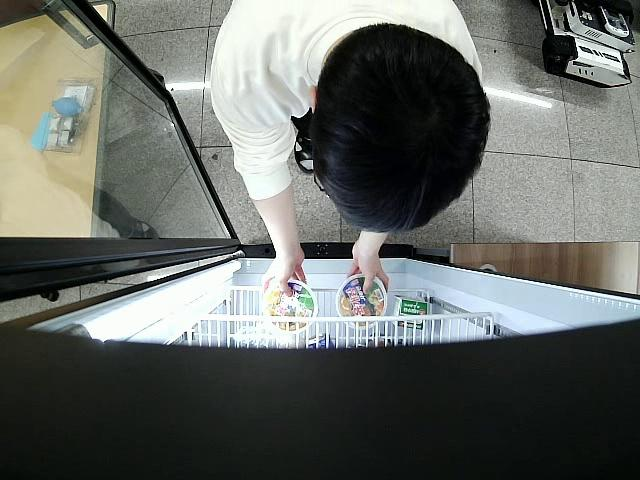00_hand: (260, 251, 308, 298), (347, 244, 390, 296)
09_yukGaeJang: (259, 281, 319, 332), (335, 275, 387, 329)
